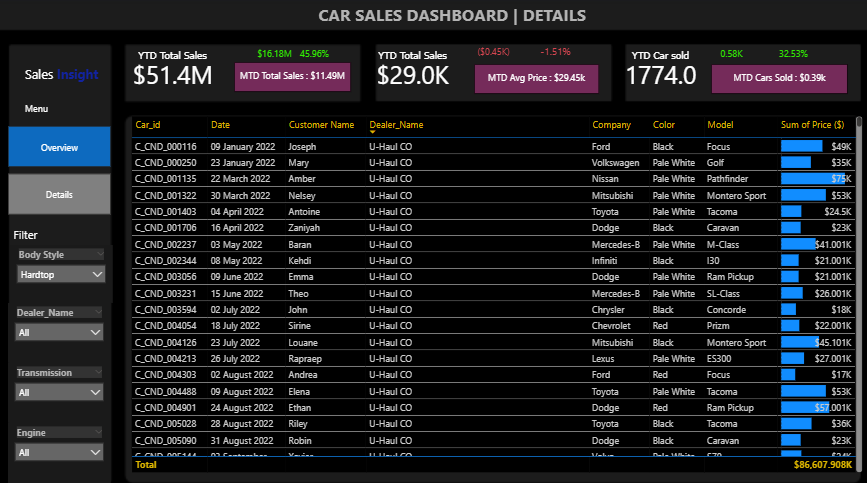

What the dashboard file says about the page in this screenshot:
{"tool":"powerbi","page":{"name":"Details","canvas":[1280,720],"ordinal":1},"visuals":[{"type":"card","title":"YTD Total Sales","fields":{"Values":["car_data.YTD Total Sales"]},"box":[170.4,72,180.7,57.3],"z":0},{"type":"card","fields":{"Values":["car_data.Sales Difference"]},"box":[318.9,45.6,183.7,70.5],"z":1000},{"type":"card","fields":{"Values":["car_data.YoY Sales Growth"]},"box":[383.5,45.6,171.9,70.5],"z":2000},{"type":"card","fields":{"Values":["car_data.MTD KPI"]},"box":[351.2,91.1,171.9,44.1],"z":3000},{"type":"card","title":"YTD Total Sales","fields":{"Values":["car_data.YTD Avg Price"]},"box":[523.1,72,180.7,57.3],"z":4000},{"type":"card","fields":{"Values":["car_data.Avg Price Diff"]},"box":[640.7,42.6,183.7,70.5],"z":5000},{"type":"card","fields":{"Values":["car_data.YoY Avg P price Growth"]},"box":[731.8,42.6,183.7,70.5],"z":6000},{"type":"card","fields":{"Values":["car_data.MTD Avg Price KPI"]},"box":[703.8,94,183.7,44.1],"z":7000},{"type":"card","title":"YTD Car sold","fields":{"Values":["car_data.YTD Cars Sold"]},"box":[887.5,72,180.7,57.3],"z":8000},{"type":"card","fields":{"Values":["car_data.Cars Sold Diff"]},"box":[990.4,45.6,183.7,70.5],"z":9000},{"type":"card","fields":{"Values":["car_data.YoY Car Sold Growth"]},"box":[1081.5,45.6,183.7,70.5],"z":10000},{"type":"card","fields":{"Values":["car_data.MTD Cars Sold KPI"]},"box":[1052.1,94,201.3,44.1],"z":11000},{"type":"textbox","box":[470.2,0,490.8,45.6],"z":12000},{"type":"slicer","fields":{"Values":["car_data.Body Style"]},"box":[22,360,151.3,85.2],"z":13000},{"type":"slicer","fields":{"Values":["car_data.Dealer_Name"]},"box":[19.1,445.2,151.3,88.2],"z":14000},{"type":"slicer","fields":{"Values":["car_data.Transmission"]},"box":[19.1,533.4,151.3,88.2],"z":15000},{"type":"slicer","fields":{"Values":["car_data.Engine"]},"box":[19.1,621.6,151.3,98.4],"z":16000},{"type":"tableEx","fields":{"Values":["car_data.Car_id","car_data.Date","car_data.Customer Name","car_data.Dealer_Name","car_data.Company","car_data.Color","car_data.Model","Sum(car_data.Price ($))"]},"box":[195.4,166,1084.4,533.4],"z":17000},{"type":"textbox","box":[0,91.1,195.4,38.2],"z":18000},{"type":"textbox","box":[0,145.5,122,39.7],"z":19000},{"type":"pageNavigator","box":[19.1,185.1,151.3,130.8],"z":20000},{"type":"textbox","box":[22,329.1,127.8,32.3],"z":21000}]}

Visuals, with their boxes in screenshot pixels (x1, y1, x2, y2), scaled from the page's 1280x720 canvas onto the 867x483 screenshot:
"YTD Total Sales" card: (115, 48, 238, 87)
card - car_data.Sales Difference: (216, 31, 340, 78)
card - car_data.YoY Sales Growth: (260, 31, 376, 78)
card - car_data.MTD KPI: (238, 61, 354, 91)
"YTD Total Sales" card: (354, 48, 477, 87)
card - car_data.Avg Price Diff: (434, 29, 558, 76)
card - car_data.YoY Avg P price Growth: (496, 29, 620, 76)
card - car_data.MTD Avg Price KPI: (477, 63, 601, 93)
"YTD Car sold" card: (601, 48, 724, 87)
card - car_data.Cars Sold Diff: (671, 31, 795, 78)
card - car_data.YoY Car Sold Growth: (733, 31, 857, 78)
card - car_data.MTD Cars Sold KPI: (713, 63, 849, 93)
textbox: (318, 0, 651, 31)
slicer - car_data.Body Style: (15, 241, 117, 299)
slicer - car_data.Dealer_Name: (13, 299, 115, 358)
slicer - car_data.Transmission: (13, 358, 115, 417)
slicer - car_data.Engine: (13, 417, 115, 482)
tableEx - car_data.Car_id x car_data.Date: (132, 111, 866, 469)
textbox: (0, 61, 132, 87)
textbox: (0, 98, 83, 124)
pageNavigator: (13, 124, 115, 212)
textbox: (15, 221, 101, 242)
